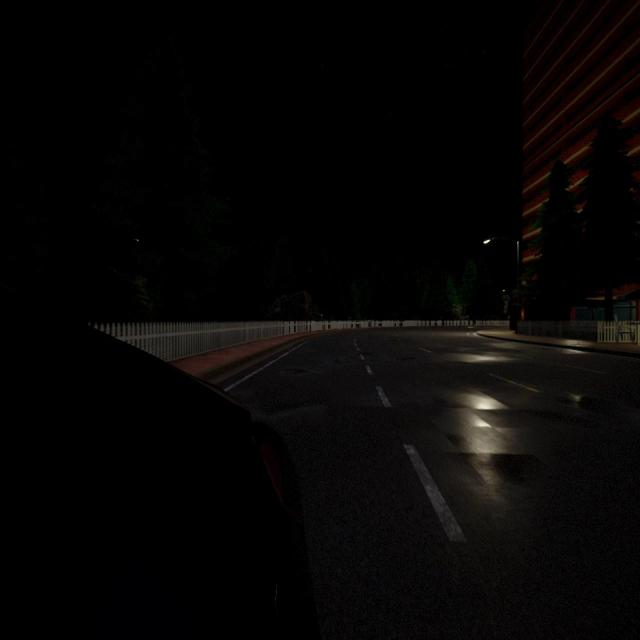Vehicle: (0, 317, 318, 639)
